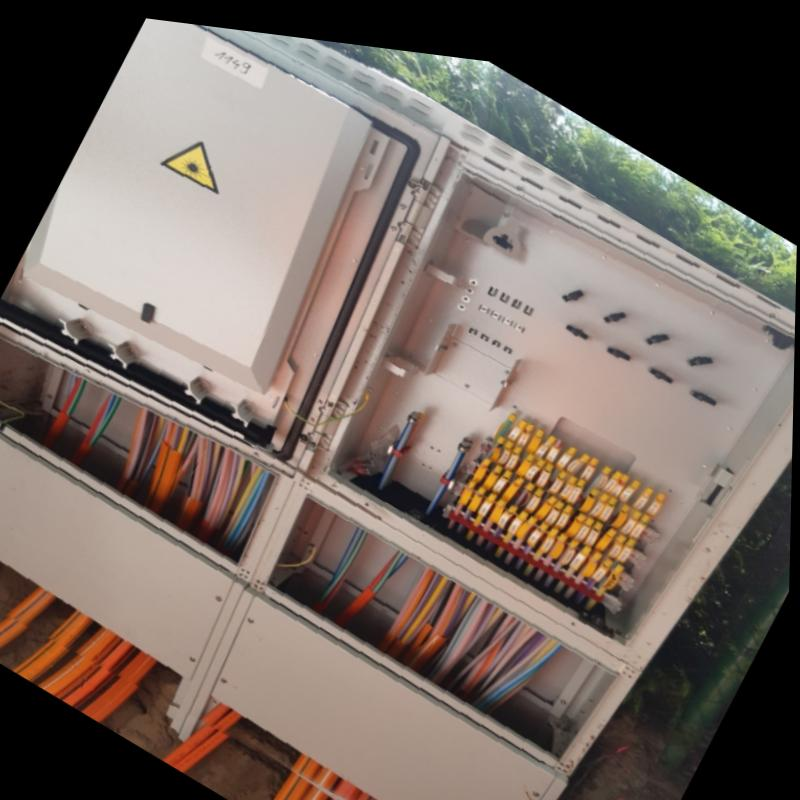NT-Gehause: (0, 14, 796, 800)
